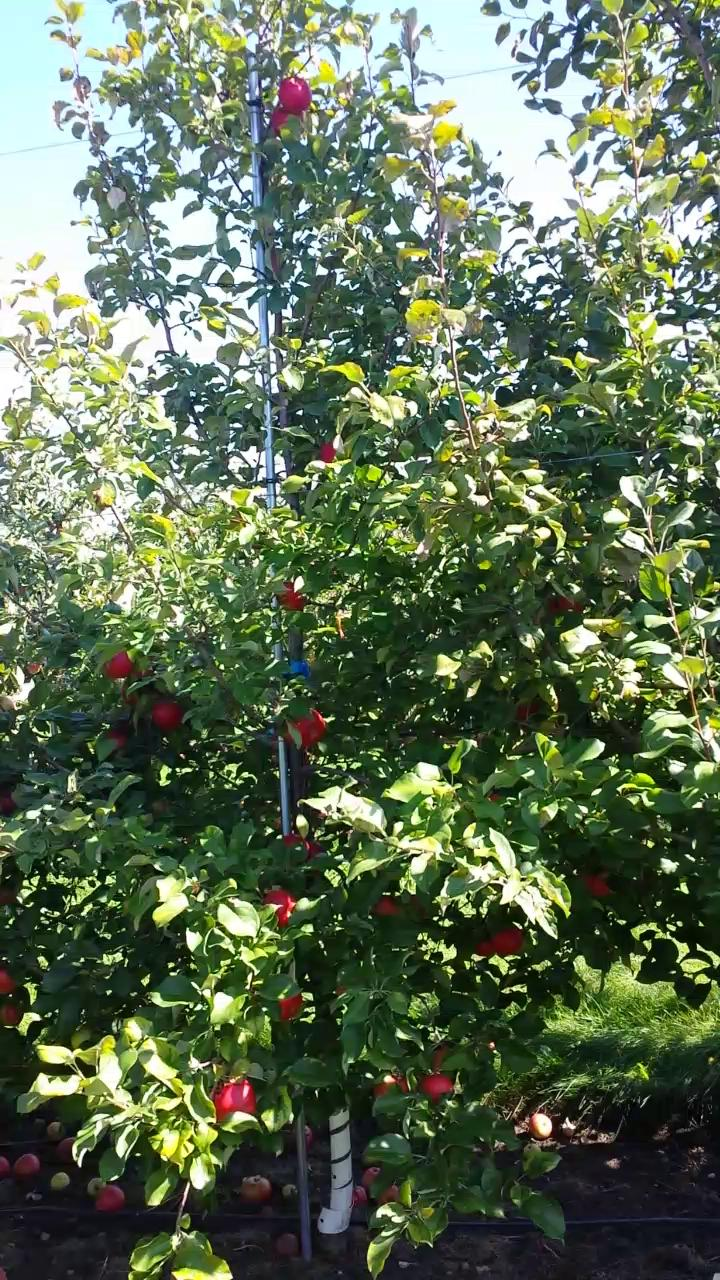Apple: (211, 1078, 256, 1124), (283, 707, 326, 749), (260, 886, 297, 928), (418, 1073, 456, 1105), (269, 103, 304, 137), (279, 76, 312, 111), (372, 1072, 411, 1100), (492, 927, 527, 956), (152, 702, 185, 731), (582, 872, 617, 897), (103, 649, 133, 678), (277, 580, 305, 610), (372, 894, 404, 919), (277, 992, 302, 1023), (281, 833, 313, 856), (307, 843, 326, 877), (515, 700, 541, 724), (0, 966, 20, 996), (558, 595, 587, 614), (0, 1003, 22, 1027), (0, 789, 19, 815), (407, 894, 424, 921), (107, 727, 129, 747), (121, 680, 138, 705), (473, 939, 496, 957), (432, 1047, 448, 1072), (320, 438, 336, 462), (546, 596, 562, 613), (135, 663, 153, 678), (0, 890, 15, 906), (334, 985, 346, 999), (489, 791, 501, 802)
